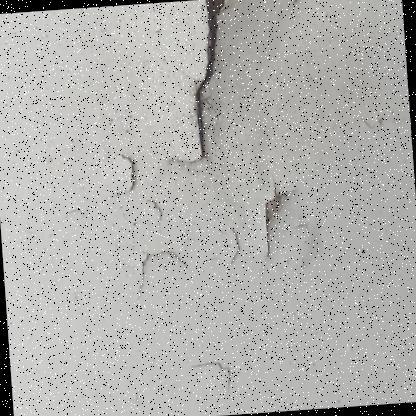Crack: (94, 134, 252, 314), (136, 0, 273, 177), (249, 175, 326, 278), (185, 340, 245, 408), (350, 82, 406, 148), (48, 196, 93, 236), (278, 0, 310, 11)
